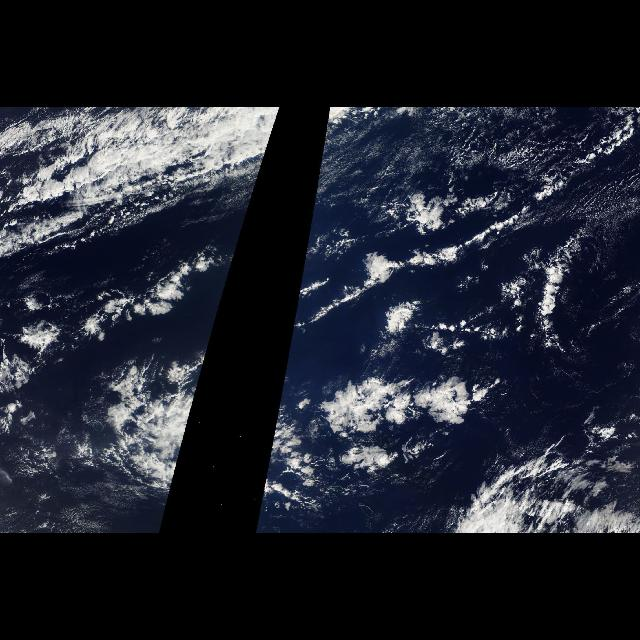Fish: (262, 358, 478, 492), (92, 358, 206, 492)
Sugar: (352, 109, 638, 285)
